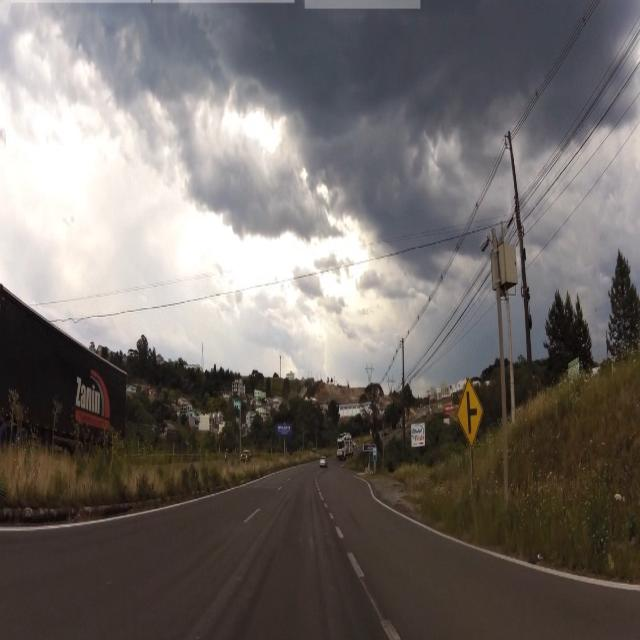A-7b: (458, 380, 481, 447)
